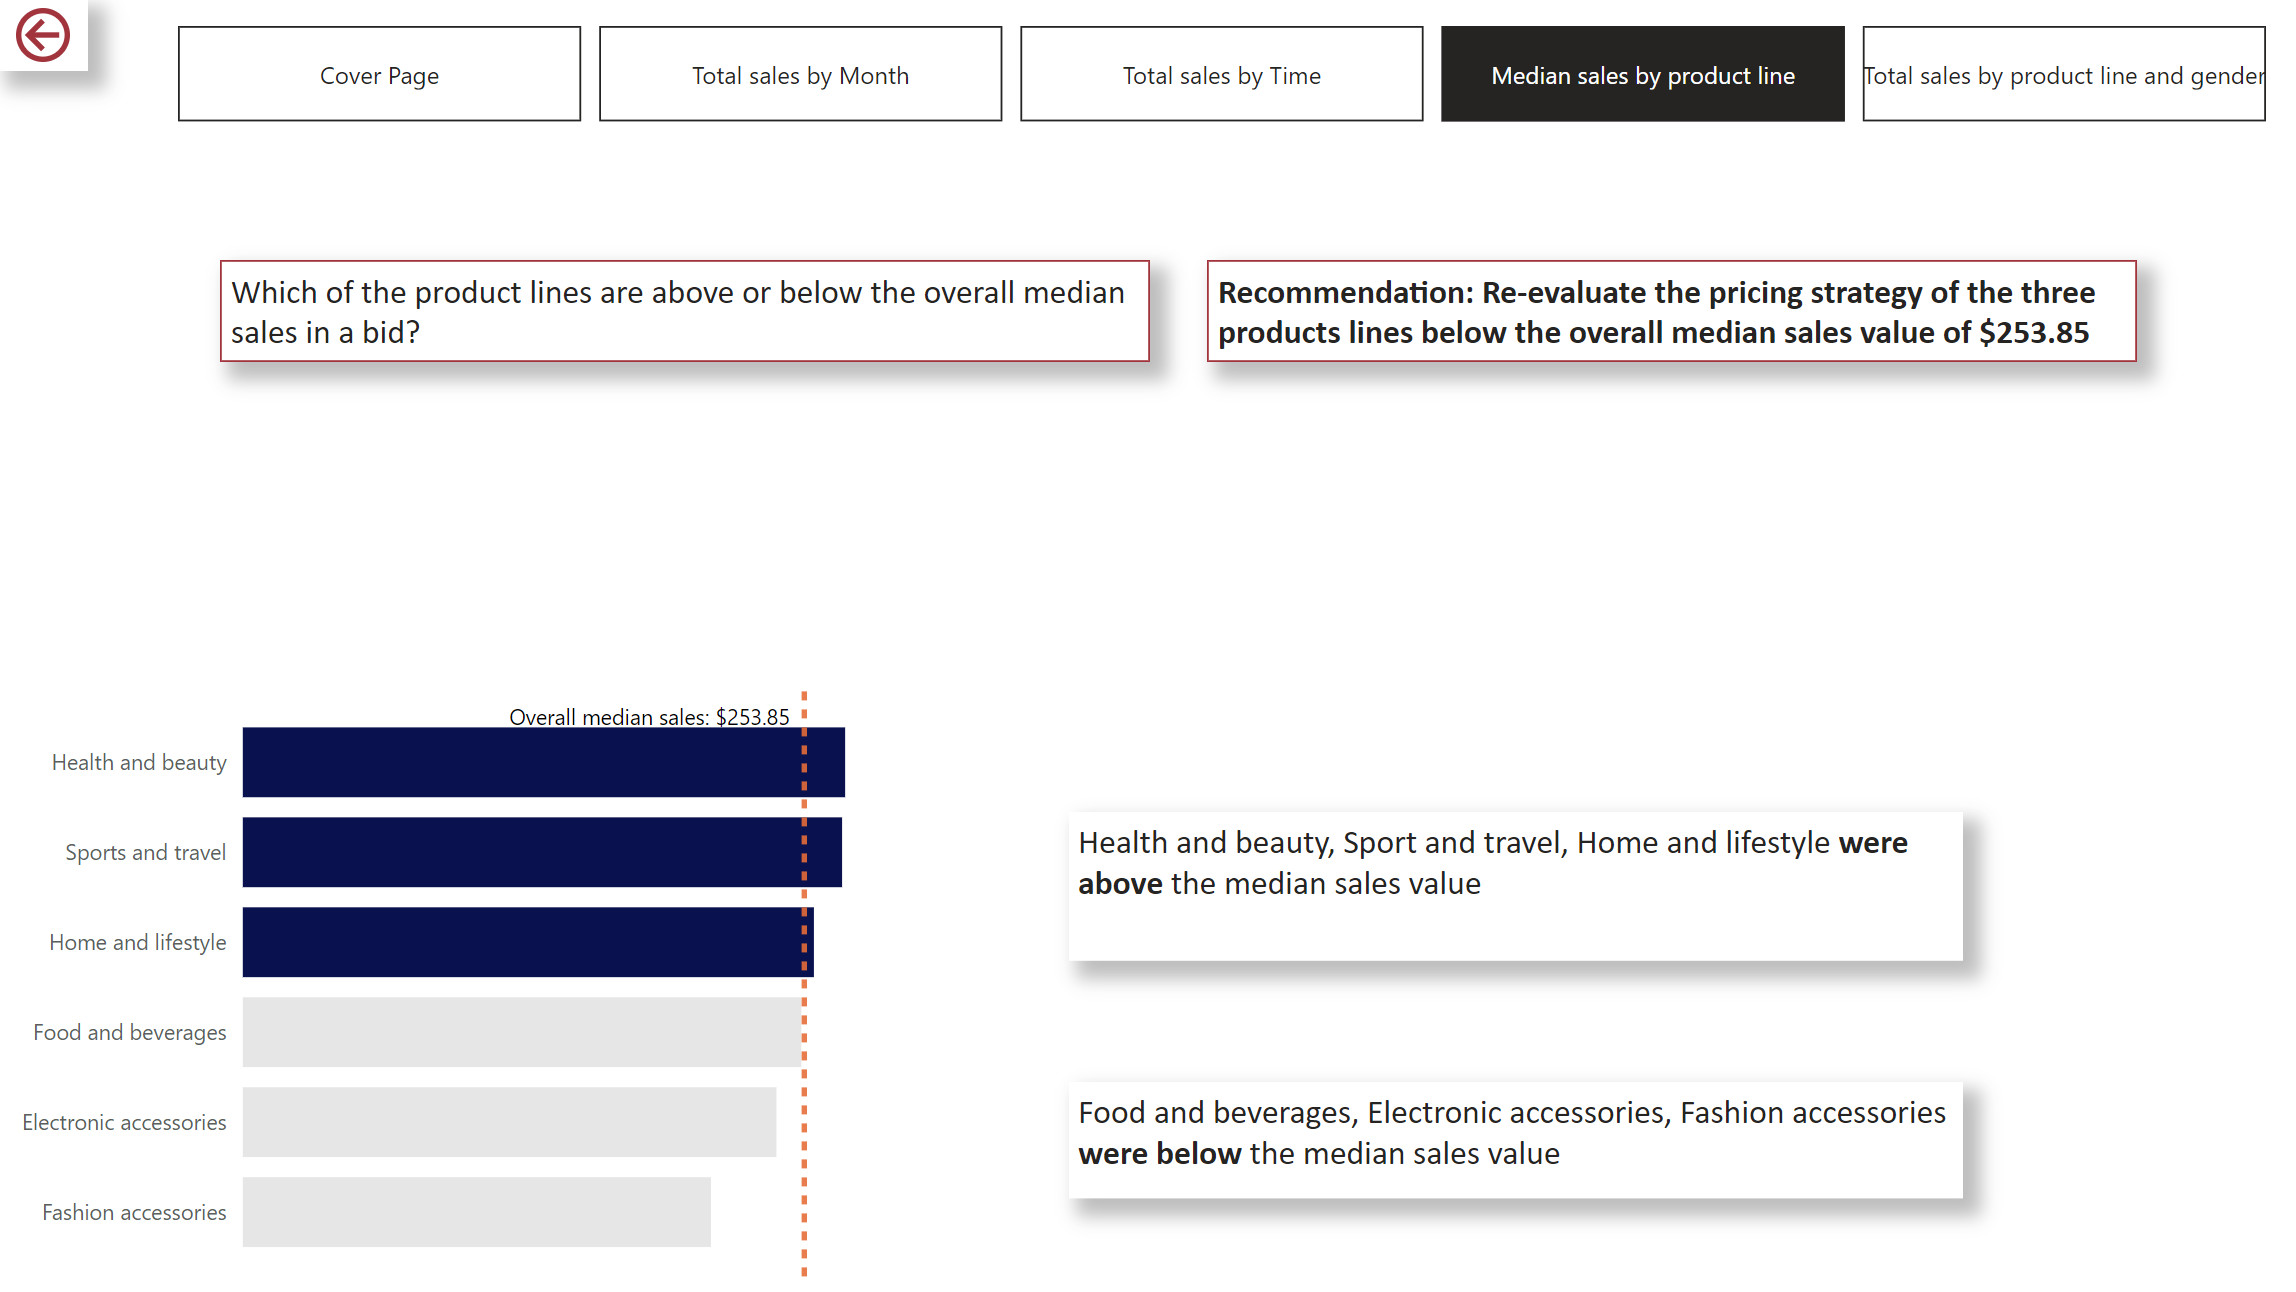

This screenshot's page, from the dashboard's own definition file:
{"tool":"powerbi","page":{"name":"Median sales by product line","canvas":[1280,720],"ordinal":3},"visuals":[{"type":"clusteredBarChart","fields":{"Category":["supermarket_sales.Product line"],"Y":["Median(supermarket_sales.Sales)"]},"box":[0,372.1,509.7,347.9],"z":0},{"type":"textbox","box":[671.7,145,516.7,56.7],"z":1000},{"type":"textbox","box":[595.4,451.4,496.7,82.5],"z":2000},{"type":"textbox","box":[595.4,601.9,496.7,64.7],"z":3000},{"type":"pageNavigator","box":[100.3,14.6,1164.9,53.4],"z":5000},{"type":"textbox","box":[123.3,145,516.7,56.7],"z":6000},{"type":"actionButton","box":[0,0,50,40],"z":6001}]}

Visuals, with their boxes in screenshot pixels (x1, y1, x2, y2), scaled from the page's 1280x720 canvas onto the 2296x1292 screenshot:
clusteredBarChart - supermarket_sales.Product line x Median(supermarket_sales.Sales): x1=0 y1=668 x2=914 y2=1291
textbox: x1=1205 y1=260 x2=2132 y2=362
textbox: x1=1068 y1=810 x2=1959 y2=958
textbox: x1=1068 y1=1080 x2=1959 y2=1196
pageNavigator: x1=180 y1=26 x2=2269 y2=122
textbox: x1=221 y1=260 x2=1148 y2=362
actionButton: x1=0 y1=0 x2=90 y2=72
